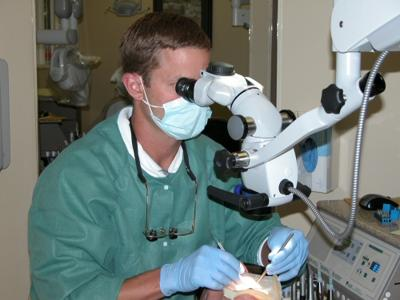person: (26, 11, 310, 300)
